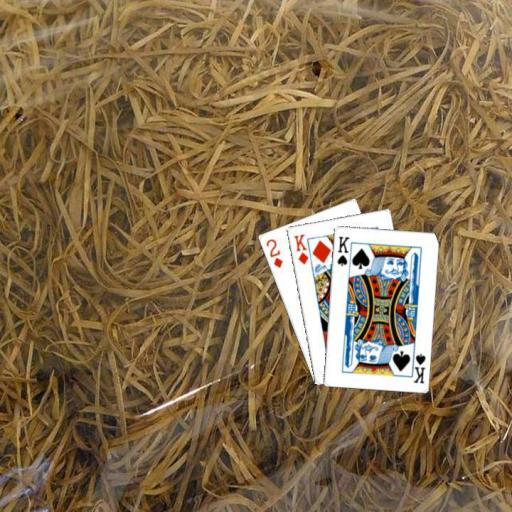2D: (262, 236, 284, 270)
KD: (291, 231, 310, 266)
KS: (408, 347, 427, 384), (334, 233, 351, 268)
